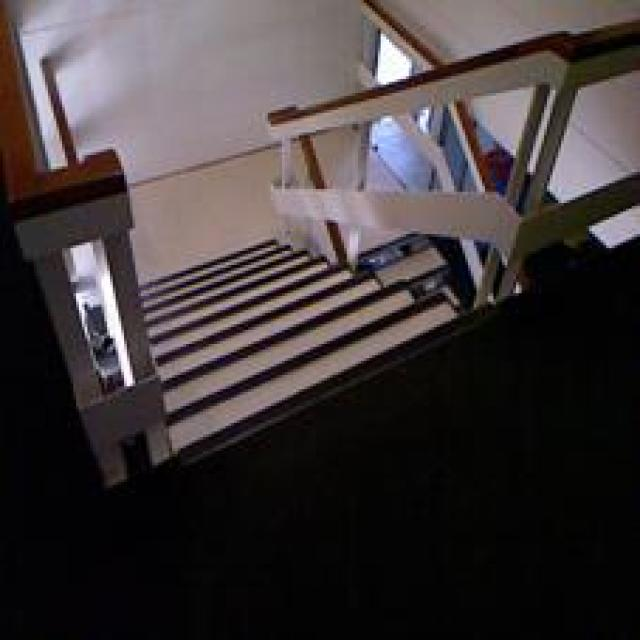downstair: (148, 283, 517, 469)
